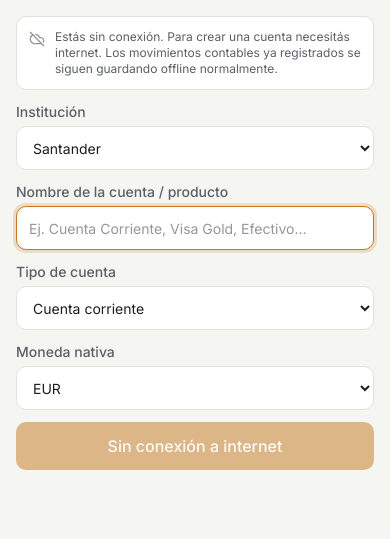
Test: AccountForm › bloquea el submit y muestra error si se intenta enviar offline
Type "Cuenta Offline" into the field labelled "Nombre de la cuenta / producto" at {"x": 195, "y": 228}, box [16, 206, 374, 250]
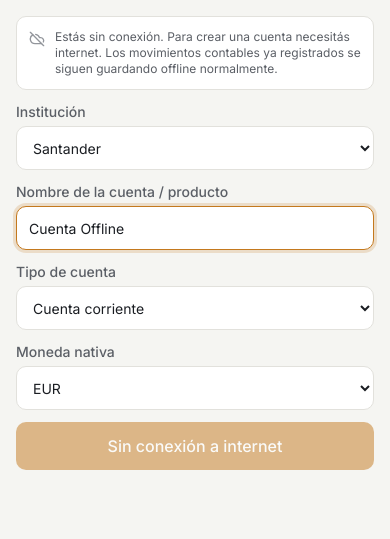
Submit the form named "nombre de la cuenta"
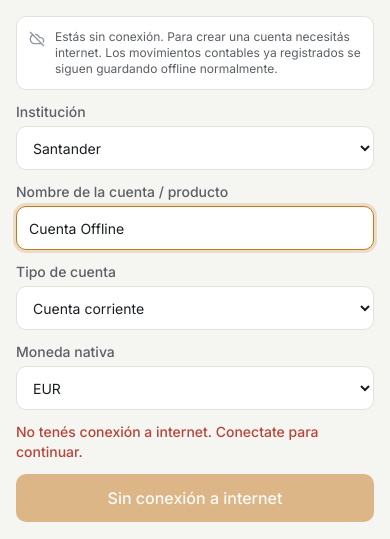
expect the text "No tenés conexión a internet. Conectate para continuar." is shown: met, box [16, 423, 318, 460]
